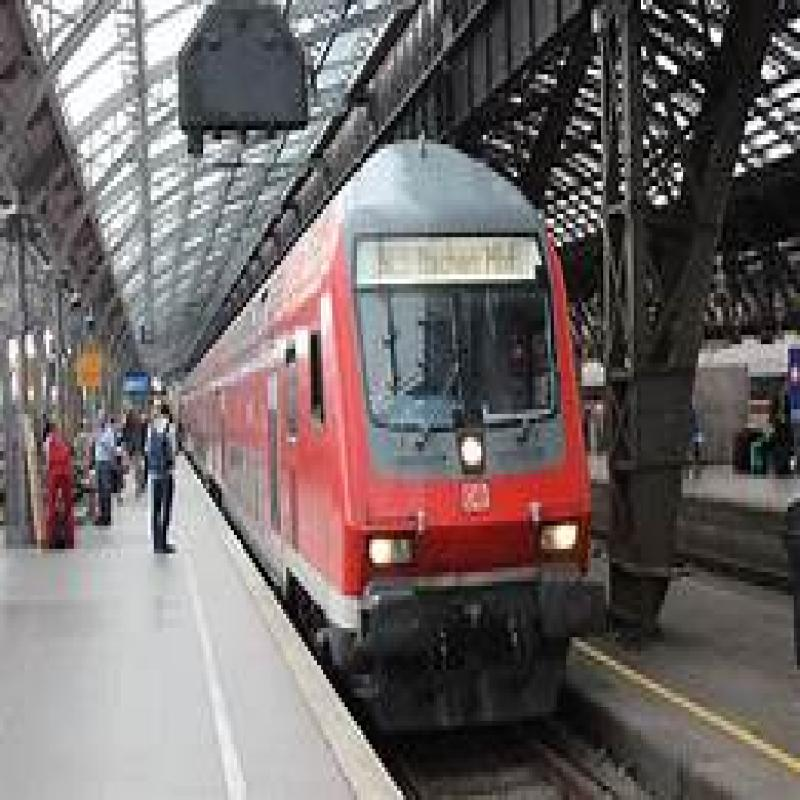train: (186, 239, 632, 690)
